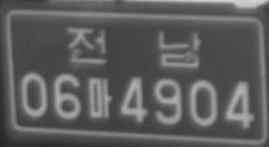0: (189, 80, 218, 127), (20, 71, 48, 117)
4: (226, 81, 255, 128), (120, 76, 148, 123)
6: (53, 73, 82, 120)
9: (153, 77, 182, 124)
마: (88, 77, 113, 118)
전남_D: (67, 26, 202, 69)
